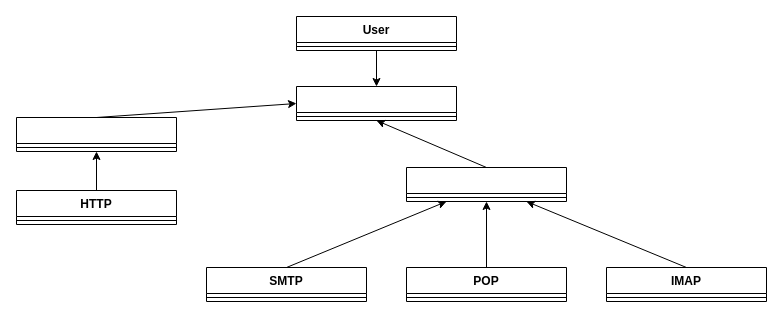
Image size: 783x318. Some labels were removed from this diagram. Here are the shapes that lost their labels. From the top down, the box of each, then its label:
(296, 86, 456, 120): Internet
(16, 116, 176, 152): Web
(406, 166, 566, 202): Email
